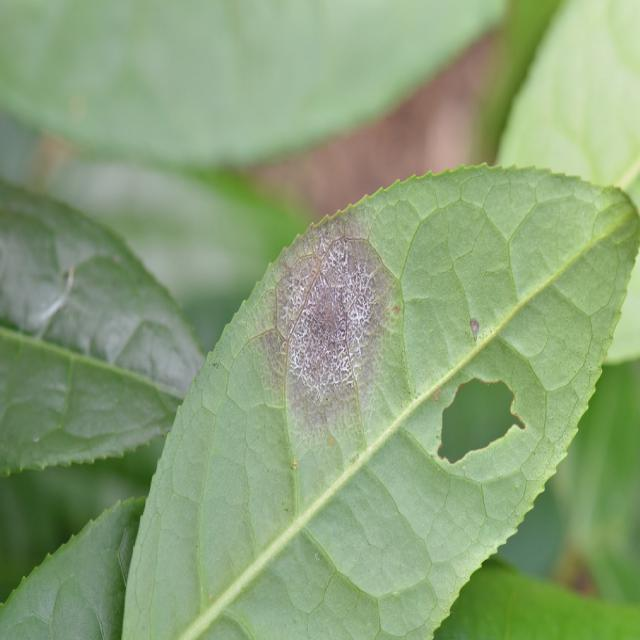Tea exobasidium blight: (257, 226, 395, 412)
